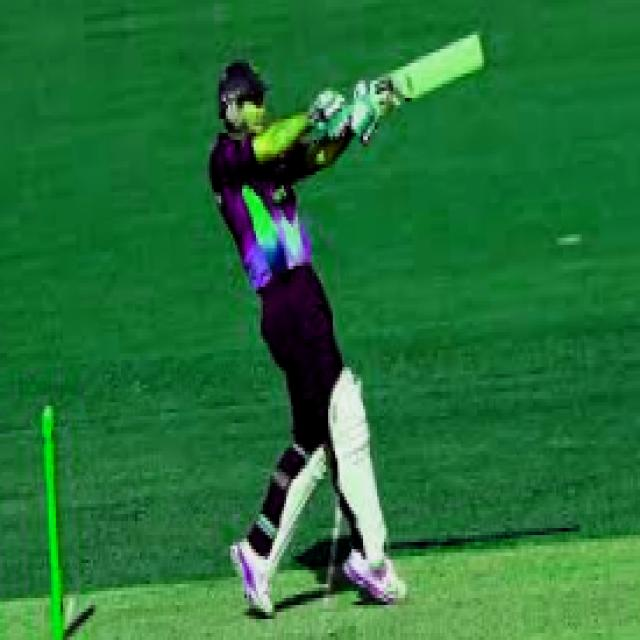toe: (474, 34, 486, 77)
